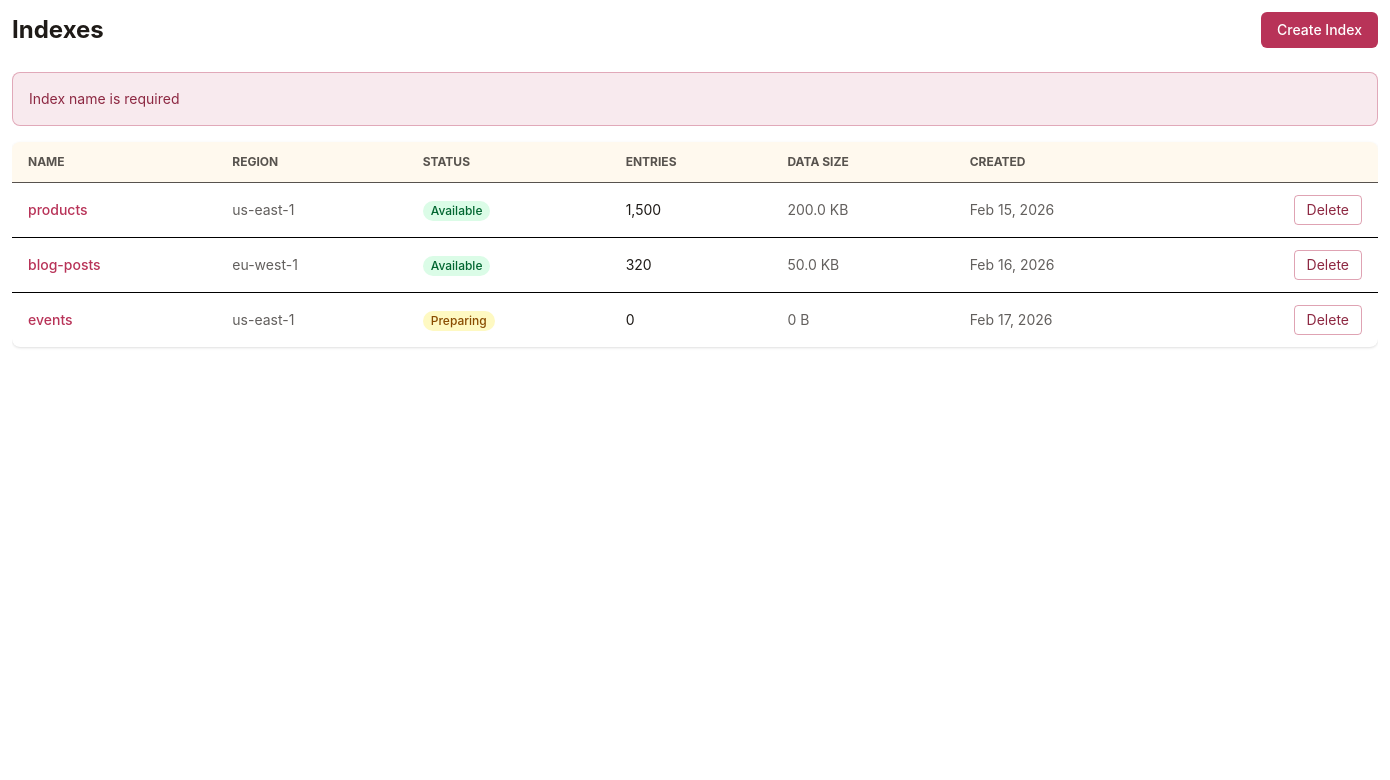
Index list page › keeps plain create validation errors scoped to the dialog after enhanced create submit (Index name is required)
This screenshot has width=1390, height=780.
Click the button "Create Index". click: (1320, 30)
box: [1261, 12, 1378, 48]
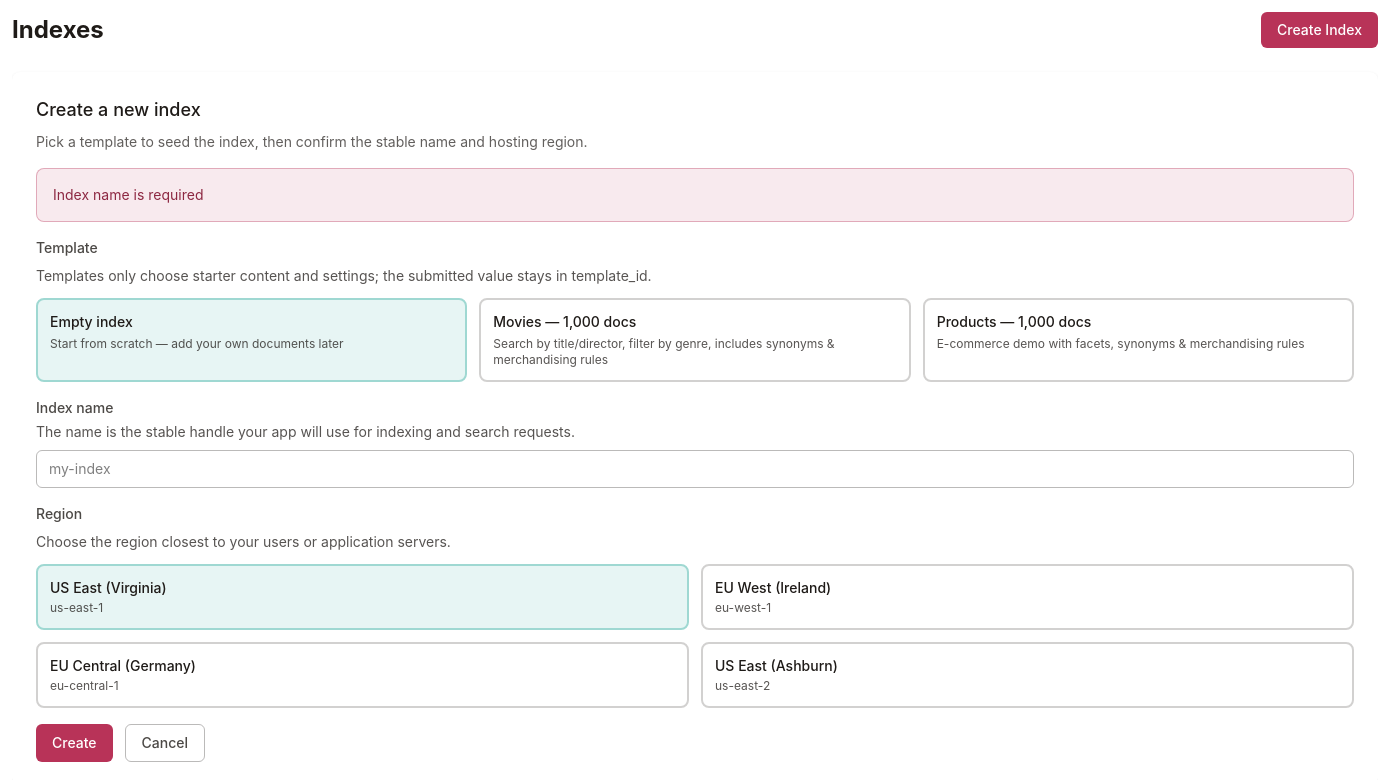
Expected: the message with test id "create-index-server-error" reads "Index name is required", [53, 186, 204, 203]
Expected: the number of messages is 1, [36, 168, 1354, 222]
